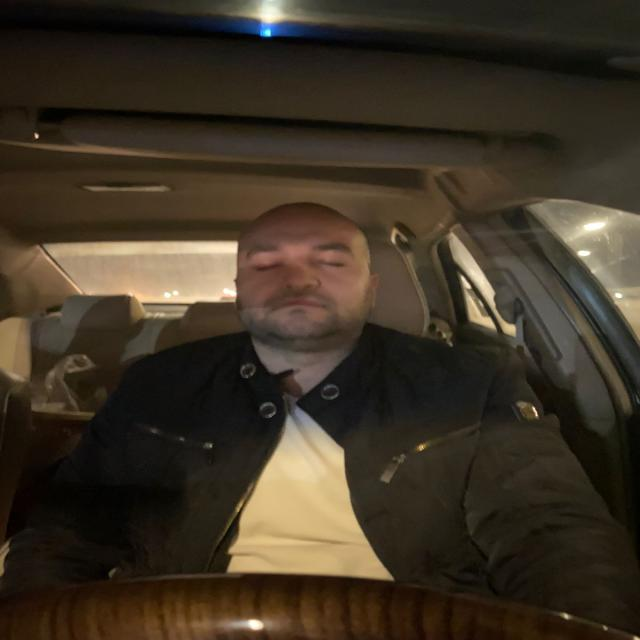drowsy: (233, 210, 368, 349)
